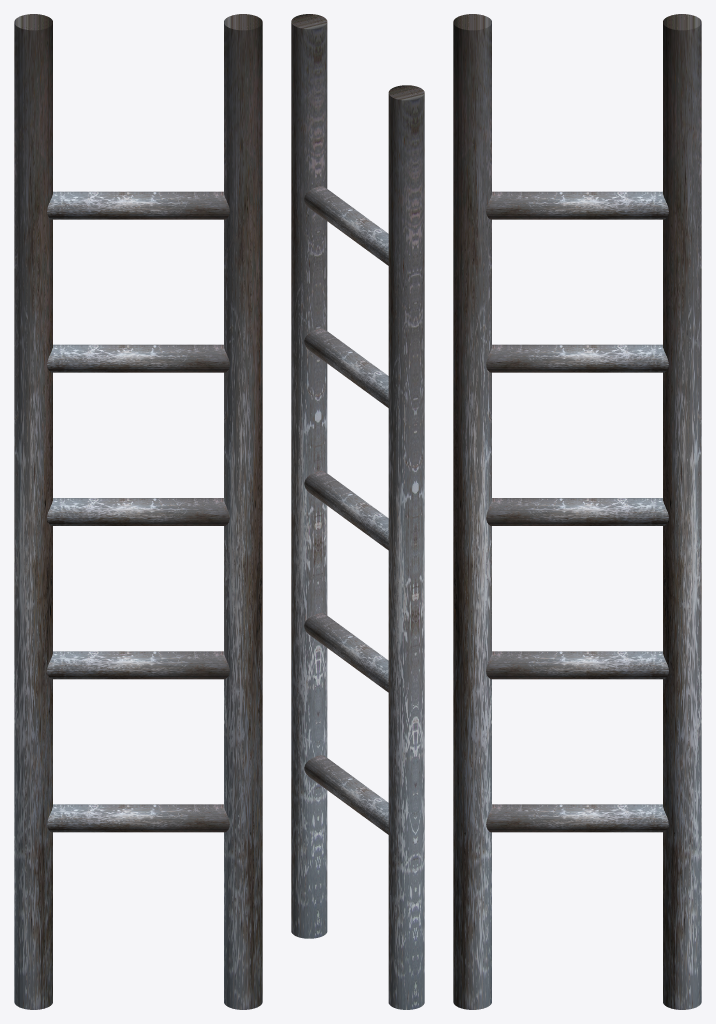
The model's file is ladder.fbx.
3 renders of one model, left to right at view 1: azimuth 90°, elevation 25°; view 2: azimuth 210°, elevation 25°; view 3: azimuth 270°, elevation 25°, orthographic. The views are drawn at different scales.
Parts seen in each view (by area): view 1: Cylinder, Cylinder.001, Cylinder.003, Cylinder.006, Cylinder.005, Cylinder.004, Cylinder.002; view 2: Cylinder.001, Cylinder, Cylinder.002, Cylinder.003, Cylinder.005, Cylinder.006, Cylinder.004; view 3: Cylinder, Cylinder.001, Cylinder.003, Cylinder.006, Cylinder.005, Cylinder.004, Cylinder.002.
Part boxes in pixels (x1,y1,x2,y2): Cylinder: (224,14,262,1009); Cylinder.001: (14,14,52,1009); Cylinder.003: (47,651,229,679); Cylinder.006: (47,804,229,832); Cylinder.005: (47,191,229,219); Cylinder.004: (47,344,229,372); Cylinder.002: (47,498,229,525); Cylinder.001: (388,85,424,1009); Cylinder: (291,14,327,938); Cylinder.002: (304,470,388,550); Cylinder.003: (304,613,388,692); Cylinder.005: (304,186,388,265); Cylinder.006: (304,755,388,834); Cylinder.004: (304,328,388,407); Cylinder: (453,14,491,1009); Cylinder.001: (663,14,701,1009); Cylinder.003: (486,651,668,679); Cylinder.006: (486,804,668,832); Cylinder.005: (486,191,668,219); Cylinder.004: (486,344,668,372); Cylinder.002: (486,498,668,525).
Size of the model in its own units: 57.5 by 1599 by 367.
